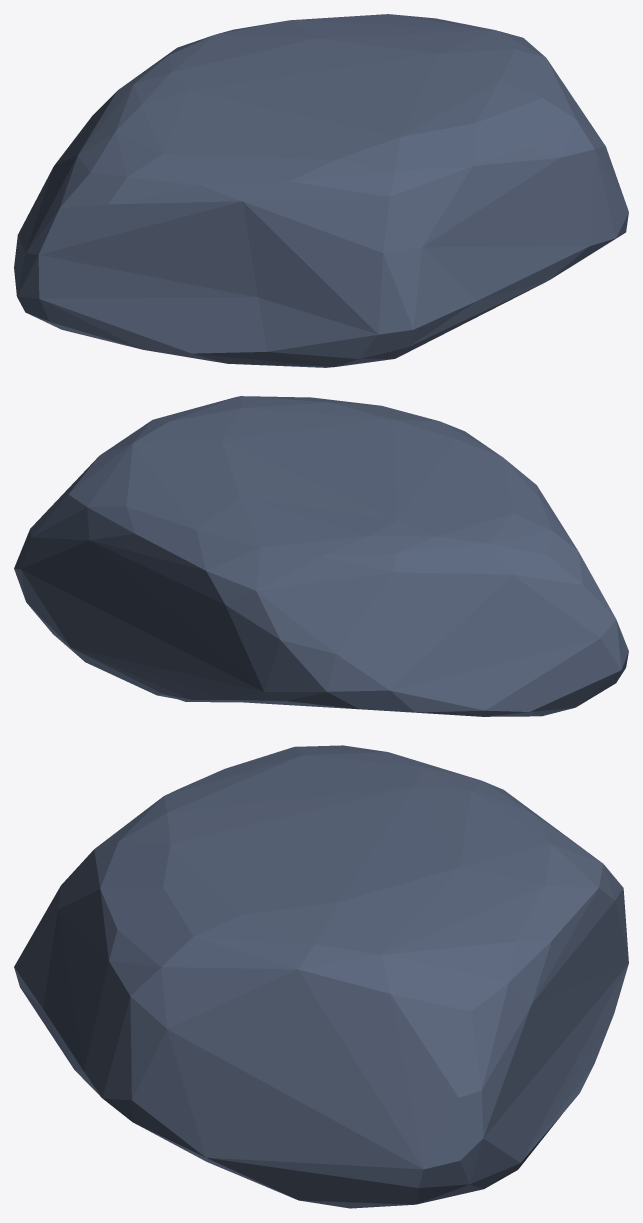
Rendered from Vampire_Assets_Rock.fbx.
3 renders of one model, top to bottom at view 1: azimuth 30°, elevation 25°; view 2: azimuth 150°, elevation 25°; view 3: azimuth 270°, elevation 25°, orthographic. The views are drawn at different scales.
Visible parts, largest first — view 1: Rock; view 2: Rock; view 3: Rock.
Part boxes in pixels (<box>): Rock: <box>14,14,628,367</box>; Rock: <box>14,396,628,716</box>; Rock: <box>14,745,628,1208</box>.
Bounding box in the file's own units: 361 × 132 × 273.
